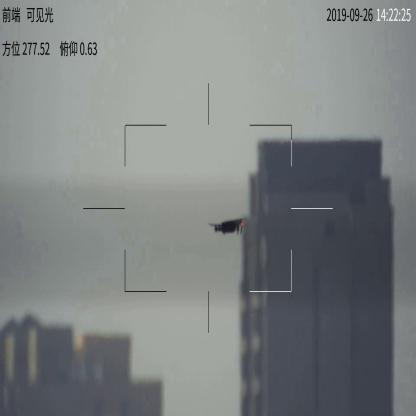uav: (208, 215, 250, 238)
